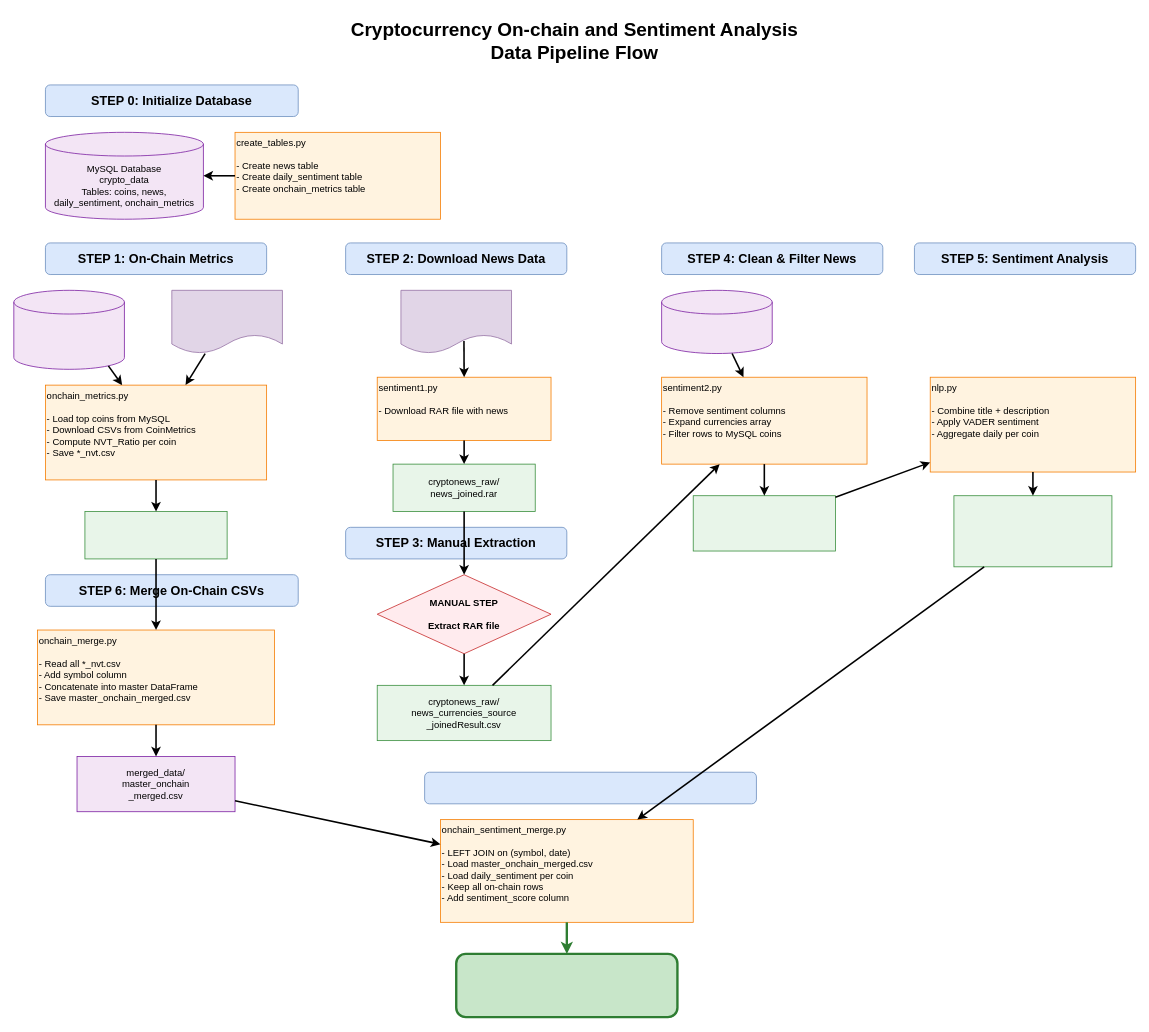
Image size: 1149x1032. Some labels were removed from this diagram. Each missing label, with the box of its shape:
CoinMetrics GitHub CSV Files: (171, 290, 282, 354)
coinmetrics_processed/ *_nvt.csv: (84, 511, 227, 559)
cryptonews_raw/ news_expanded _filtered.csv: (692, 495, 835, 551)
GitHub Repository CryptoPanic Dataset: (400, 290, 512, 354)
MySQL Database crypto_data.coins: (661, 290, 772, 354)
MySQL Database crypto_data.coins Top 1200 coins: (13, 290, 124, 369)
nlp/ daily_sentiment _per_coin.csv (symbol, date, score): (953, 495, 1112, 567)
on_chain_sentiment_merge/ onchain_with_sentiment.csv FINAL OUTPUT: (455, 952, 678, 1018)
STEP 7: Final Merge On-Chain + Sentiment: (424, 771, 756, 804)
